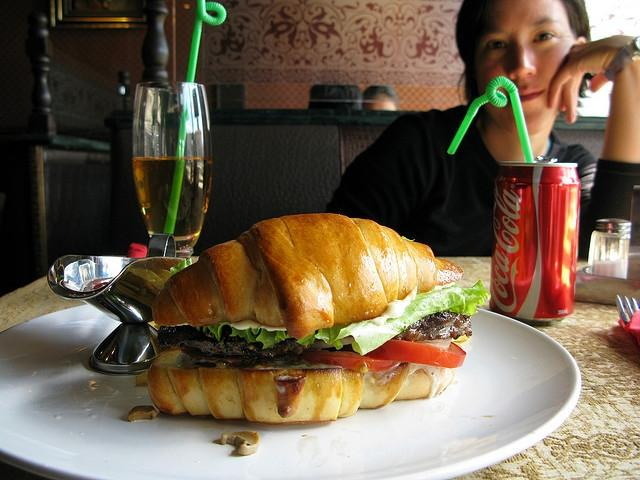tomato: (364, 338, 466, 368), (304, 351, 406, 374)
